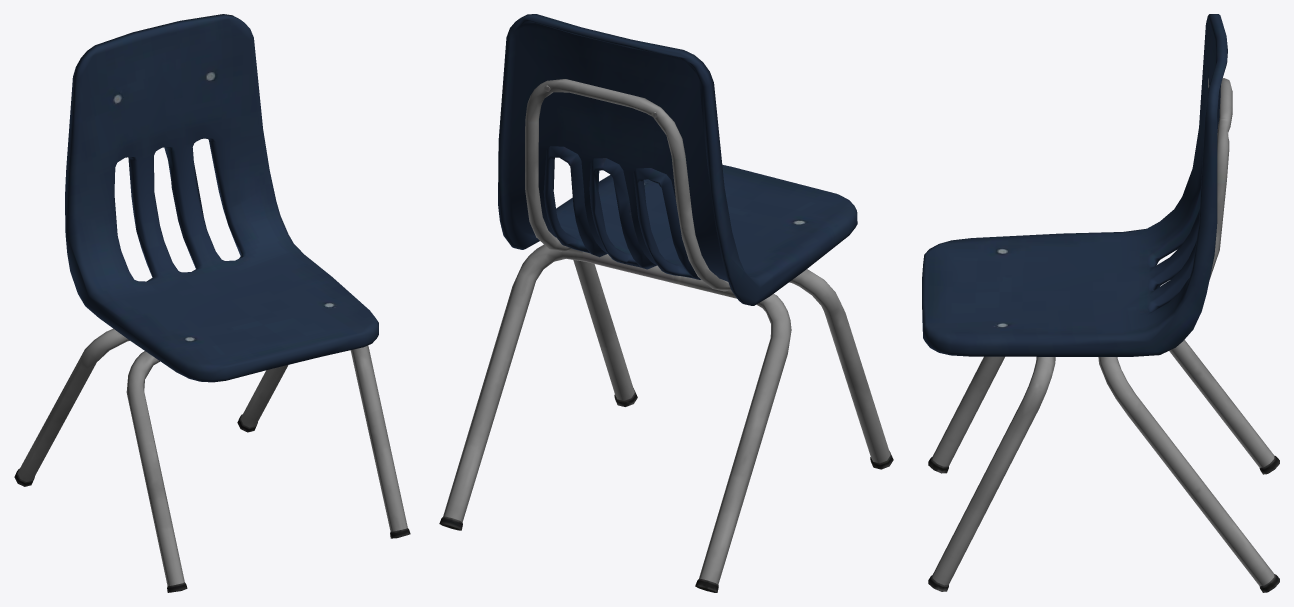
The model's file is chair.glb.
The picture shows the model from 3 angles, left to right: view 1: azimuth 30°, elevation 25°; view 2: azimuth 150°, elevation 25°; view 3: azimuth 270°, elevation 25°; orthographic projection. The views are drawn at different scales.
Parts seen in each view (by area): view 1: SchoolChair_01; view 2: SchoolChair_01; view 3: SchoolChair_01.
Boxes of the visible parts, <box> form: SchoolChair_01: <box>14,14,410,592</box>; SchoolChair_01: <box>439,14,893,592</box>; SchoolChair_01: <box>922,14,1279,592</box>.
Bounding box in the file's own units: 0.5658 × 1 × 0.6732.
1 material, 1 textured.
